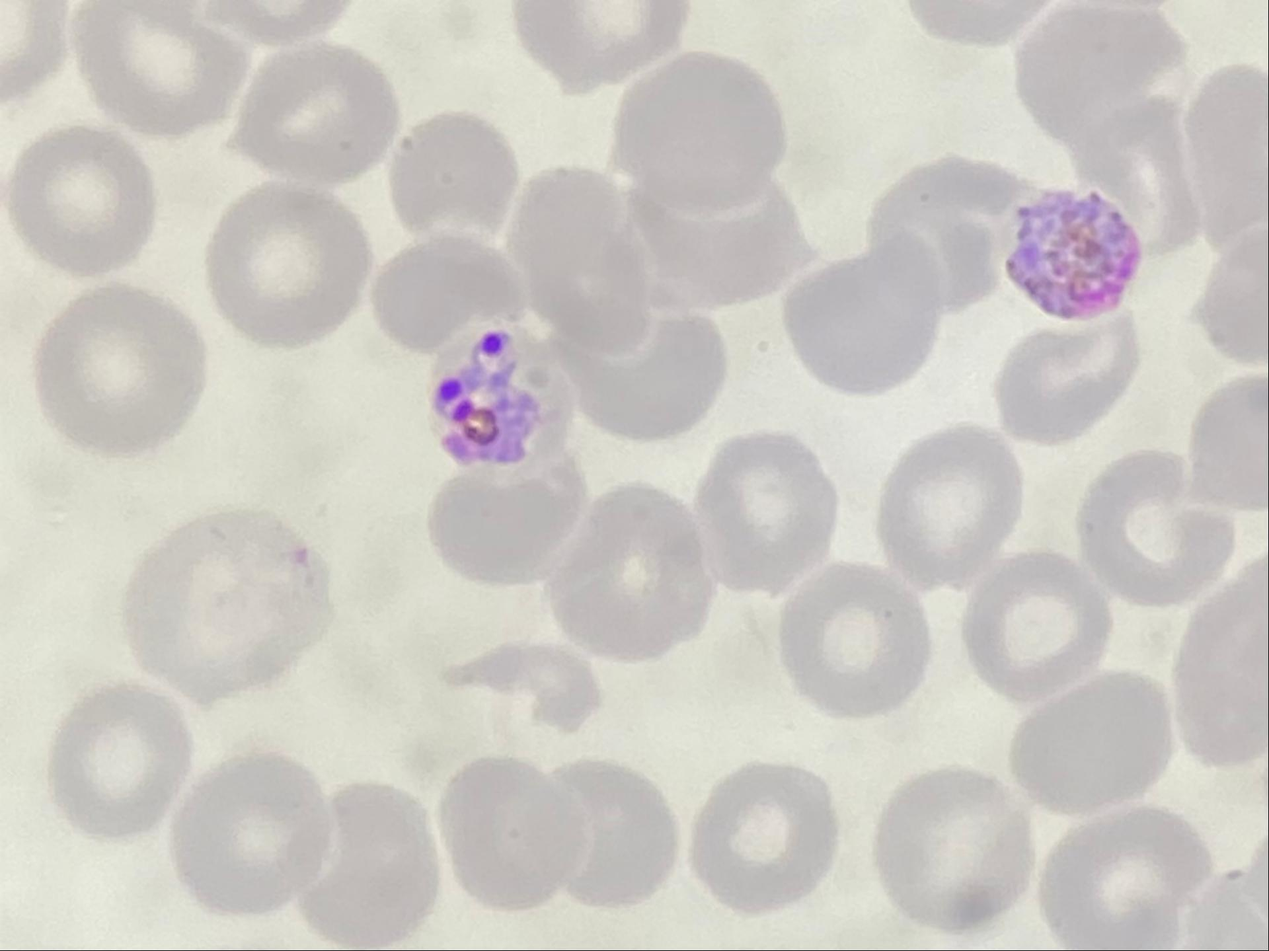Infected: (423, 318, 576, 480), (998, 182, 1142, 320)
Uninfected: (123, 509, 325, 704), (32, 285, 205, 455), (549, 486, 713, 662), (611, 48, 788, 210), (510, 171, 658, 358), (786, 233, 951, 399), (866, 156, 1031, 320), (1016, 4, 1190, 154), (206, 184, 368, 341), (872, 770, 1029, 931), (630, 178, 811, 317), (171, 757, 327, 914), (1036, 805, 1208, 946), (877, 427, 1024, 587), (777, 564, 931, 716), (229, 46, 395, 185), (440, 757, 590, 909), (75, 3, 242, 139), (693, 434, 835, 592), (1012, 674, 1169, 816), (9, 124, 157, 273), (691, 761, 837, 912), (962, 553, 1109, 701), (48, 685, 190, 836), (301, 788, 437, 945), (1069, 93, 1200, 255), (1078, 451, 1220, 600), (425, 461, 587, 590), (371, 231, 531, 360), (565, 312, 720, 443), (1171, 554, 1264, 762), (995, 316, 1138, 443), (555, 767, 674, 908), (388, 106, 514, 232), (1180, 63, 1266, 247), (516, 3, 681, 90), (1184, 375, 1268, 512)
